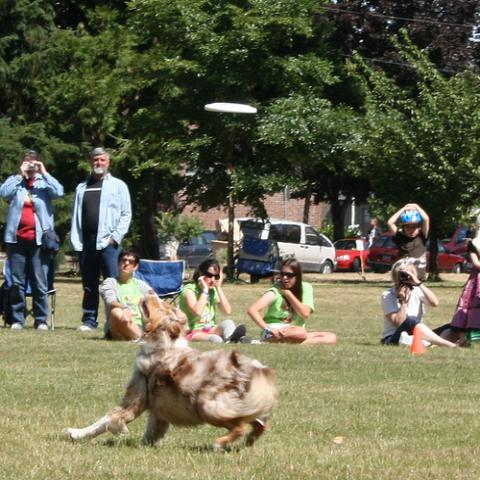car: (218, 218, 336, 274), (368, 233, 467, 273), (177, 229, 220, 269), (333, 237, 372, 271), (442, 225, 471, 262)
